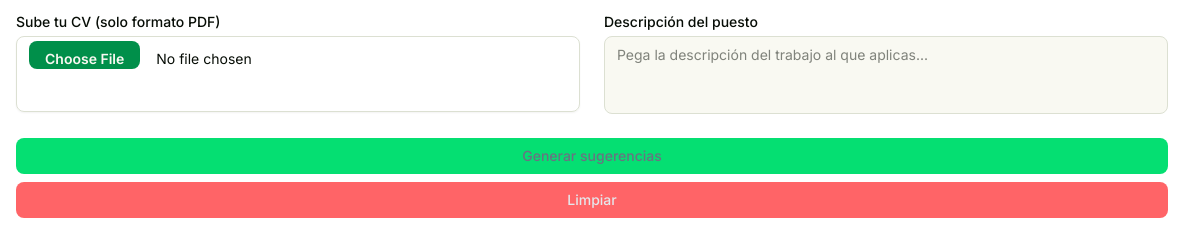
<ResumeForm /> › resetea campos al hacer clic en limpiar
The width and height of the screenshot is (1185, 235).
Type "QA Tester" into the text box labelled "Descripción del puesto" at (886, 75), box [604,36,1168,114]
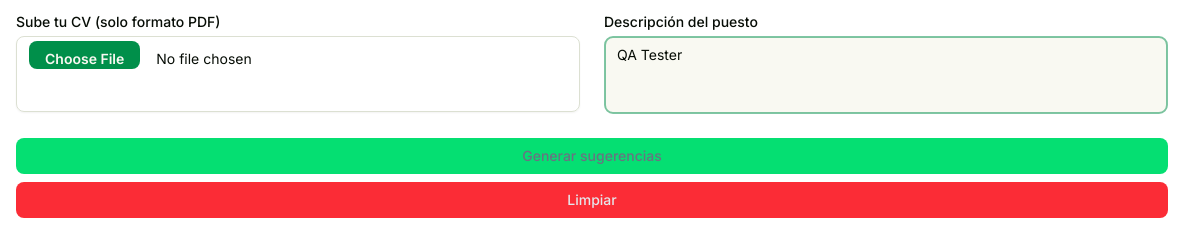
Click the button "Limpiar" at (592, 200), box [16,182,1168,218]
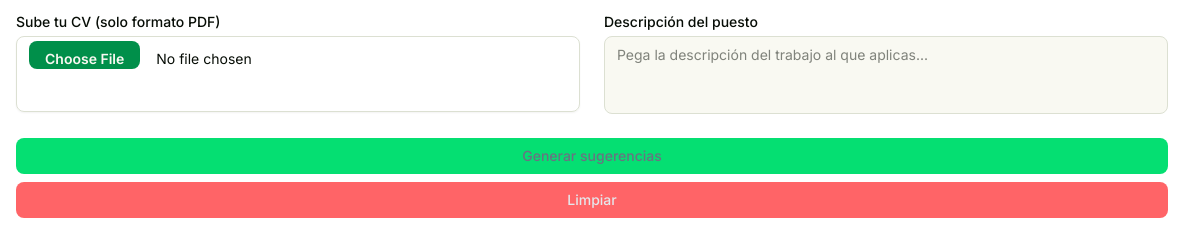
Check: the text box labelled "Descripción del puesto" is empty, box [604,36,1168,114]
